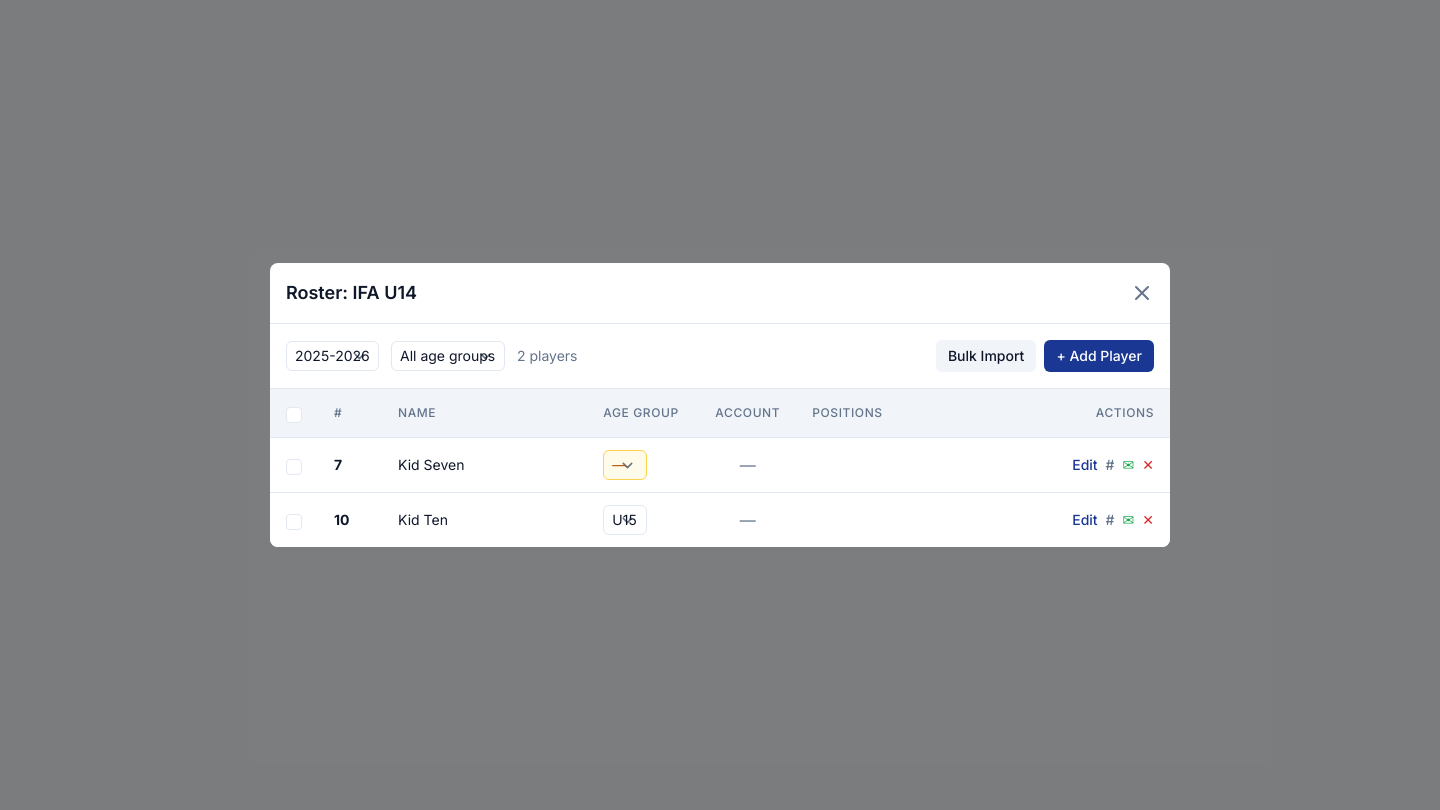
Test case: RosterManager bulk assign (SB-69) › does not show the bulk bar until a row is selected
Click the checkbox with test id "select-player-1" at (294, 467), box [286,459,302,475]
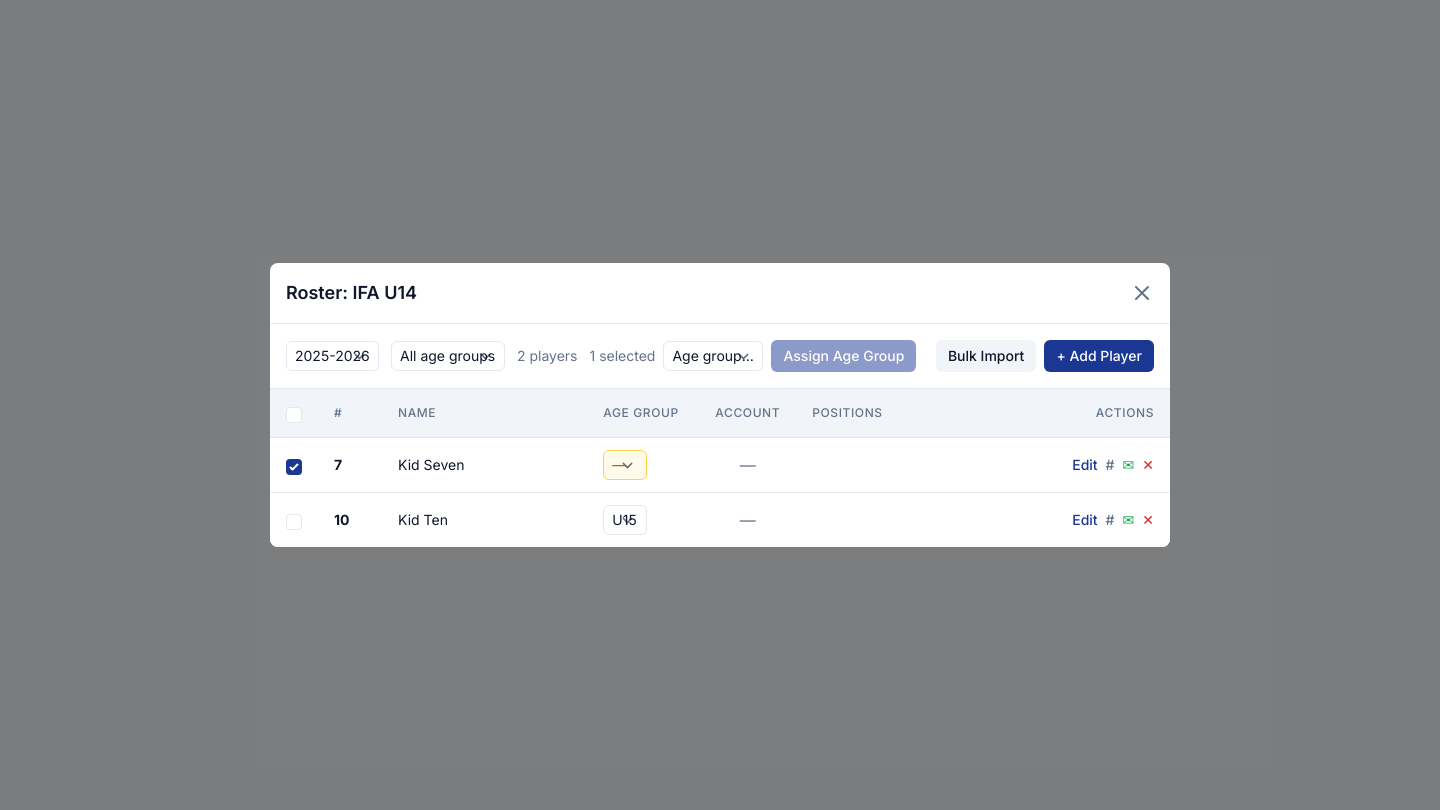
Result: the element with test id "bulk-age-group-bar" is shown at [590,340,916,372]
